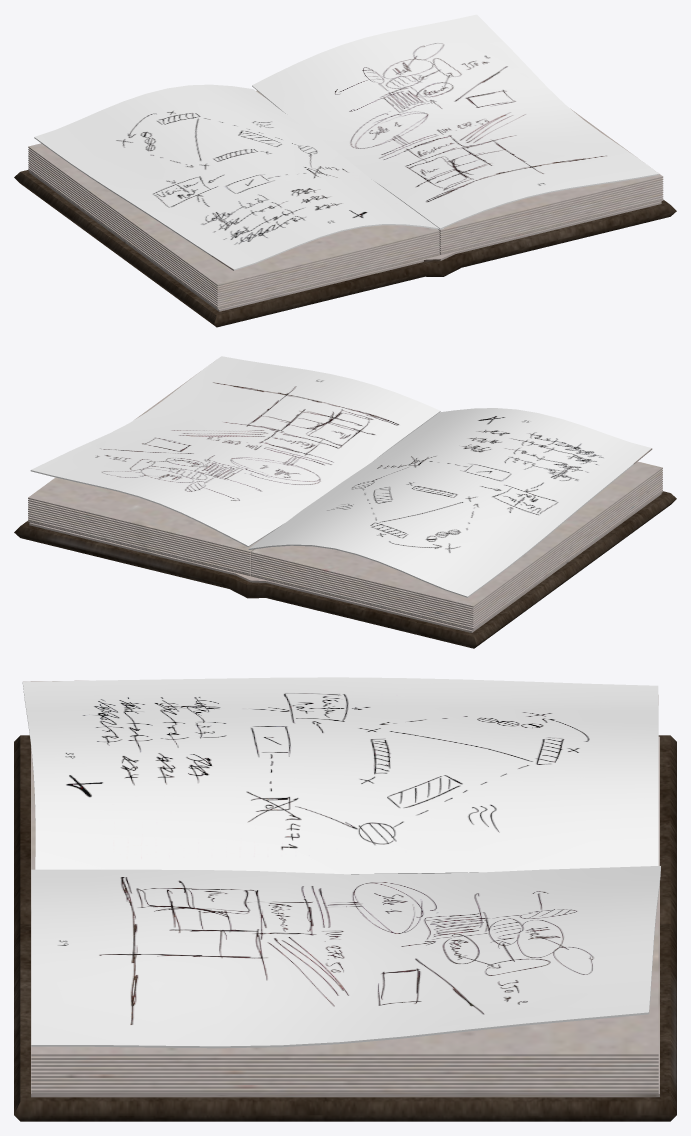
File: bookTexture.fbx
3 renders of one model, top to bottom at view 1: azimuth 30°, elevation 25°; view 2: azimuth 150°, elevation 25°; view 3: azimuth 270°, elevation 25°, orthographic. The views are drawn at different scales.
Visible parts, largest first — view 1: Box001; view 2: Box001; view 3: Box001.
Part boxes in pixels (box(x1,y1,x2,y2)): Box001: box(14, 14, 676, 327); Box001: box(14, 356, 676, 648); Box001: box(14, 677, 676, 1121).
Bounding box in the file's own units: 40.77 × 6.01 × 30.58.
Materials: 1 (1 with a texture image).
